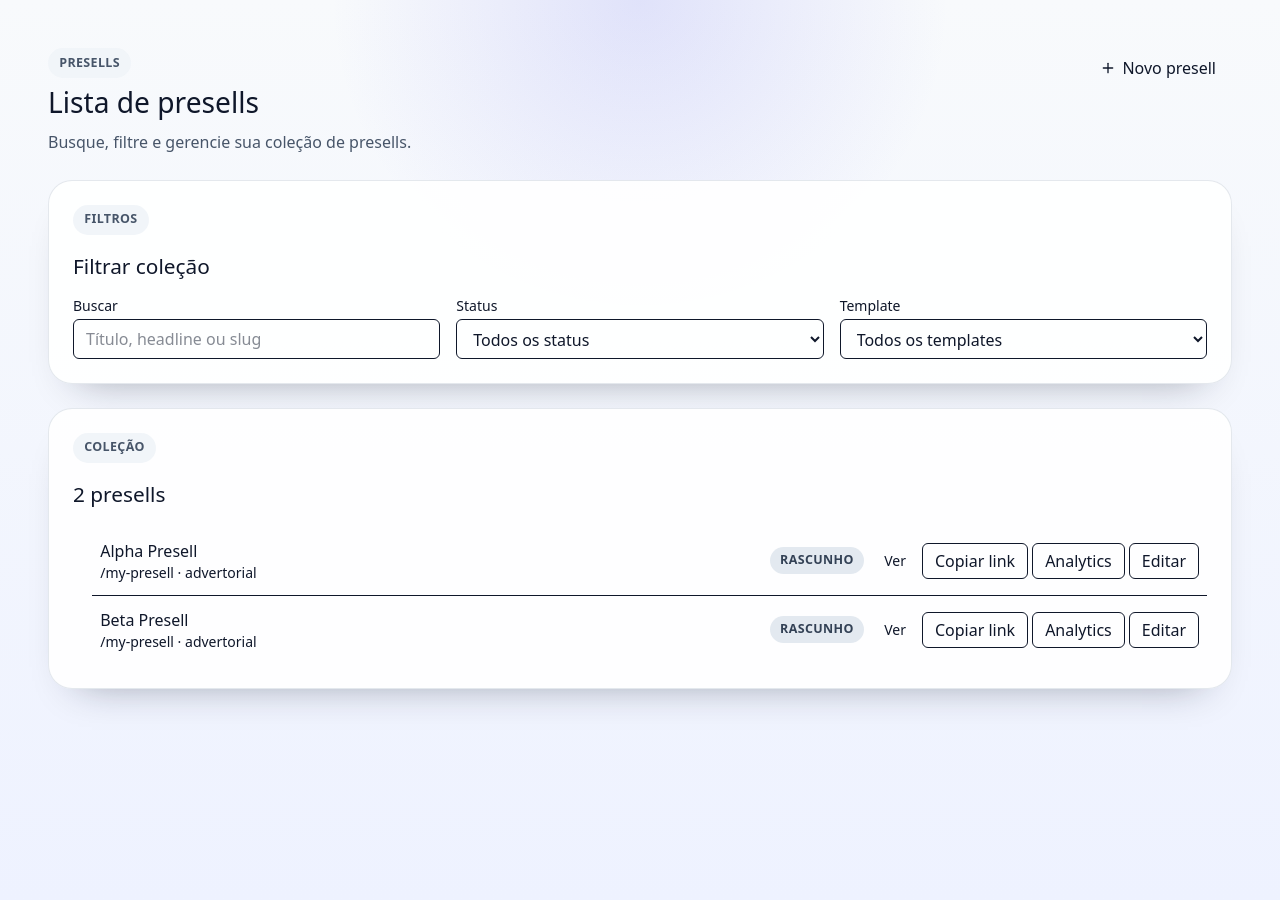
it: PresellListPage › filters presells by search term
expect the text "Alpha Presell" is shown: met, box [100,540,197,562]
Type "Alpha" into the search field at {"x": 257, "y": 339}, box [73,319,440,359]
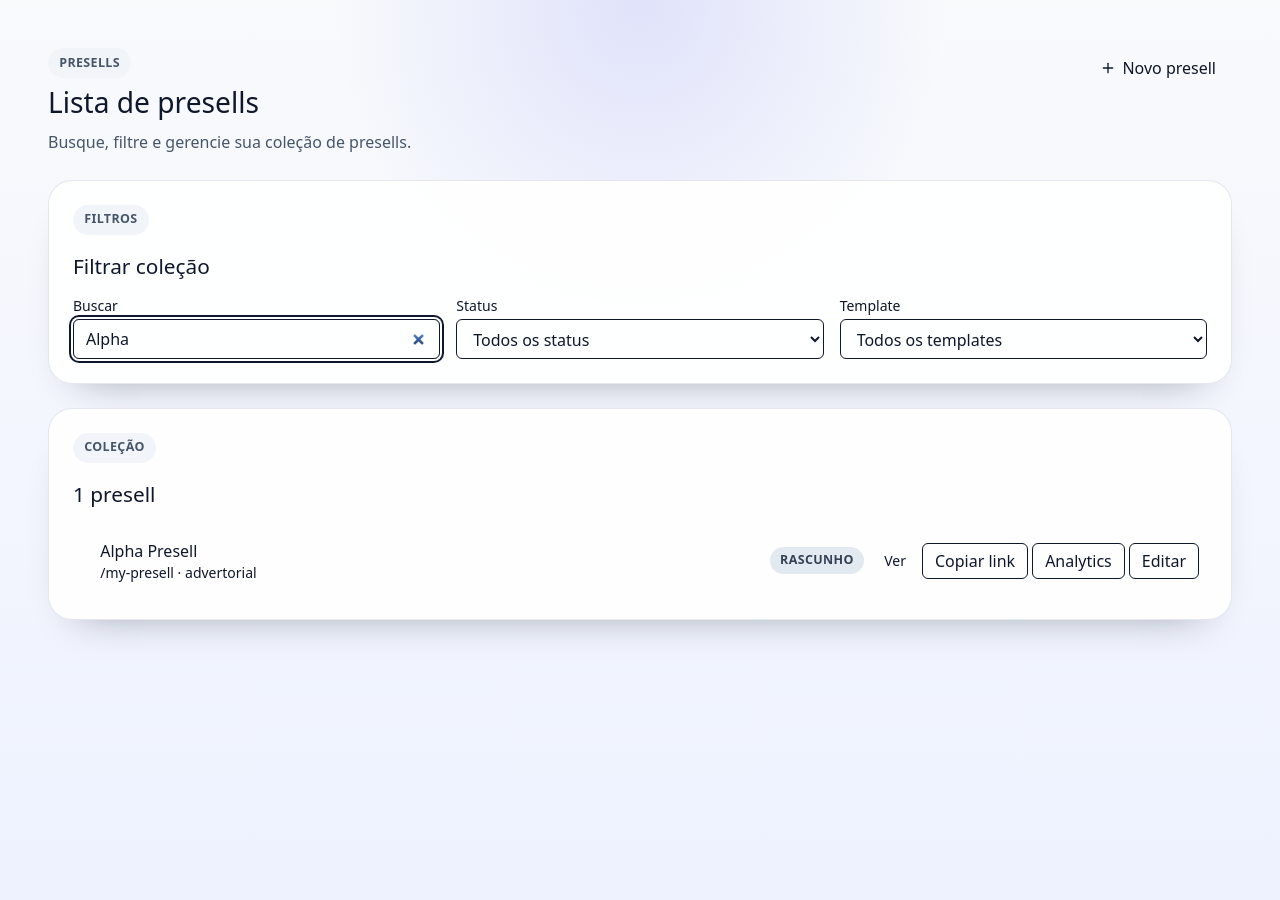
expect the text "Alpha Presell" is shown: met, box [100,540,197,562]
expect the text "Beta Presell" is gone: met
